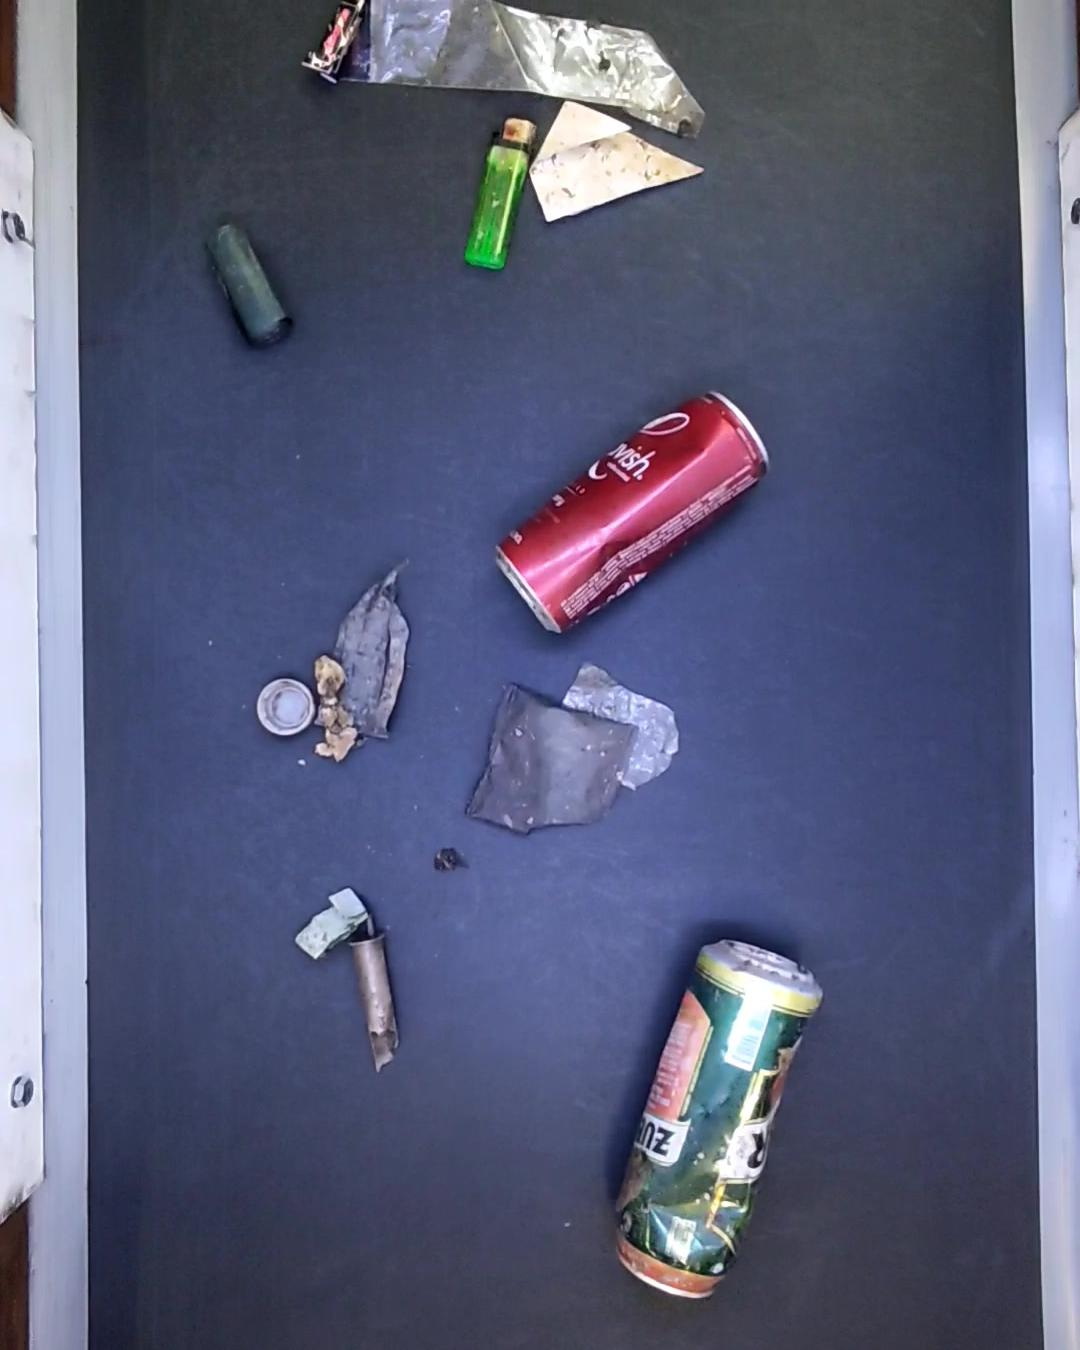Drankblikjes: (613, 931, 818, 1297), (503, 391, 770, 644)
